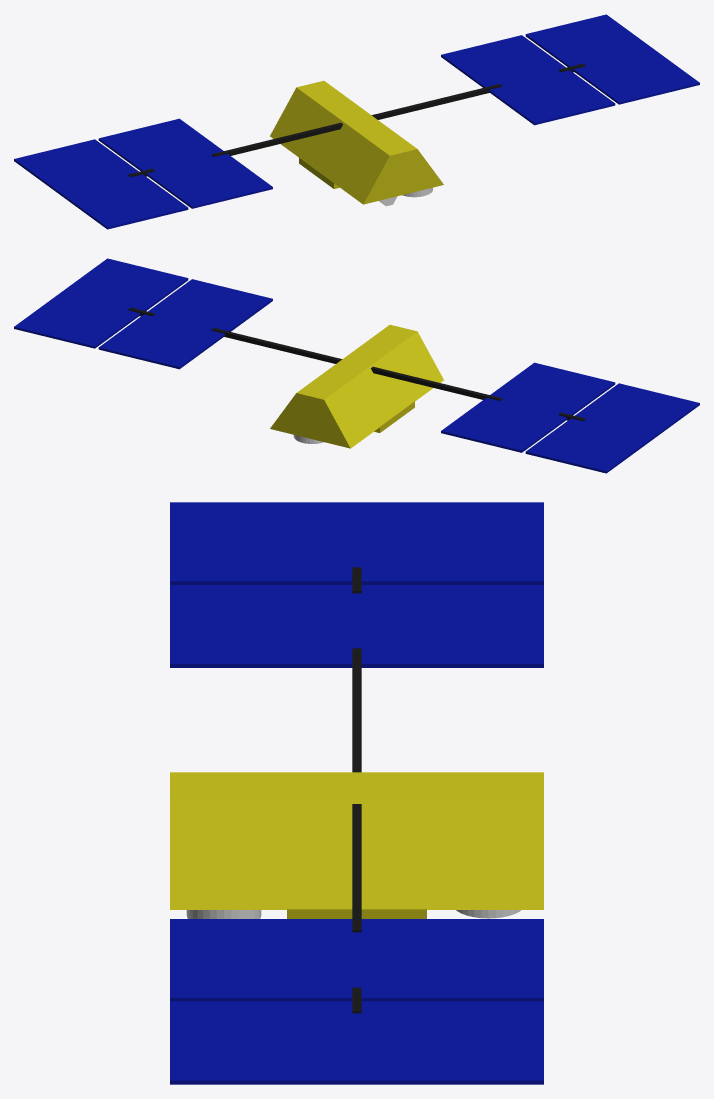
Rendered from iridium.obj.
3 views of the same model, one above another, from view 1: azimuth 30°, elevation 25°; view 2: azimuth 150°, elevation 25°; view 3: azimuth 270°, elevation 25° (orthographic). The views are drawn at different scales.
Parts seen in each view (by area): view 1: Cube.001, Cube.005, Cube.006, Cube.008, Cube.003, Cube.002, Cube.009; view 2: Cube.001, Cube.005, Cube.006, Cube.008, Cube.003, Cube.002, Cube.009; view 3: Cube.001, Cube.006, Cube.005, Cube.003, Cube.008, Cube, Cube.009, Cube.002.
Boxes of the visible parts, box(x1,y1,x2,y2) form: Cube.001: box(270, 80, 443, 204); Cube.005: box(14, 139, 188, 229); Cube.006: box(525, 14, 699, 104); Cube.008: box(441, 35, 615, 125); Cube.003: box(98, 118, 272, 208); Cube.002: box(211, 122, 342, 156); Cube.009: box(371, 84, 502, 119); Cube.001: box(270, 324, 443, 448); Cube.005: box(525, 383, 699, 473); Cube.006: box(14, 258, 188, 348); Cube.008: box(98, 279, 272, 369); Cube.003: box(441, 362, 615, 452); Cube.002: box(371, 366, 502, 400); Cube.009: box(211, 328, 342, 363); Cube.001: box(170, 772, 543, 909); Cube.006: box(170, 1001, 543, 1084); Cube.005: box(170, 502, 543, 584); Cube.003: box(170, 585, 543, 667); Cube.008: box(170, 919, 543, 1001); Cube: box(287, 909, 426, 918); Cube.009: box(352, 804, 361, 932); Cube.002: box(352, 648, 361, 772).
Size of the model in its own units: 9.4 by 0.8222 by 2.57.
